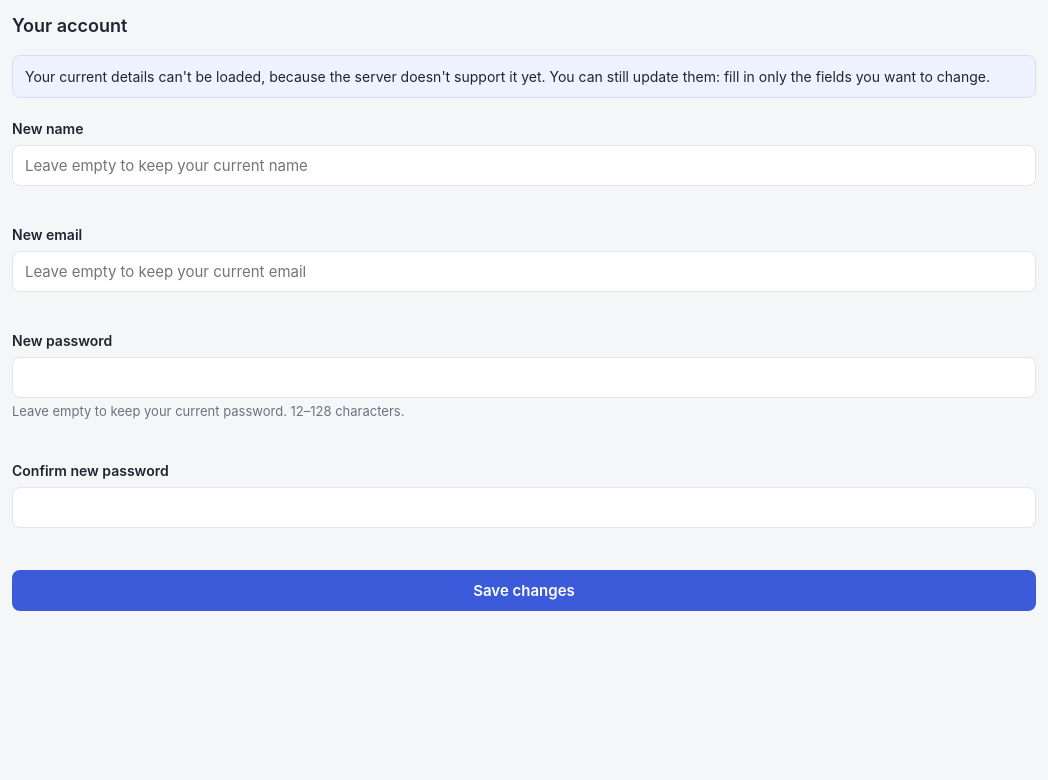
Test: Profile details (QB-47) › explains when the backend has no /users/me and sends only entered fields
expect the text "the server doesn't support it yet" is shown: met, box 25,68 -> 990,85
expect the field labelled "New name" is empty: met, box 12,145 -> 1036,186
Click the button "Save changes": click(524, 590) 12,570 -> 1036,610
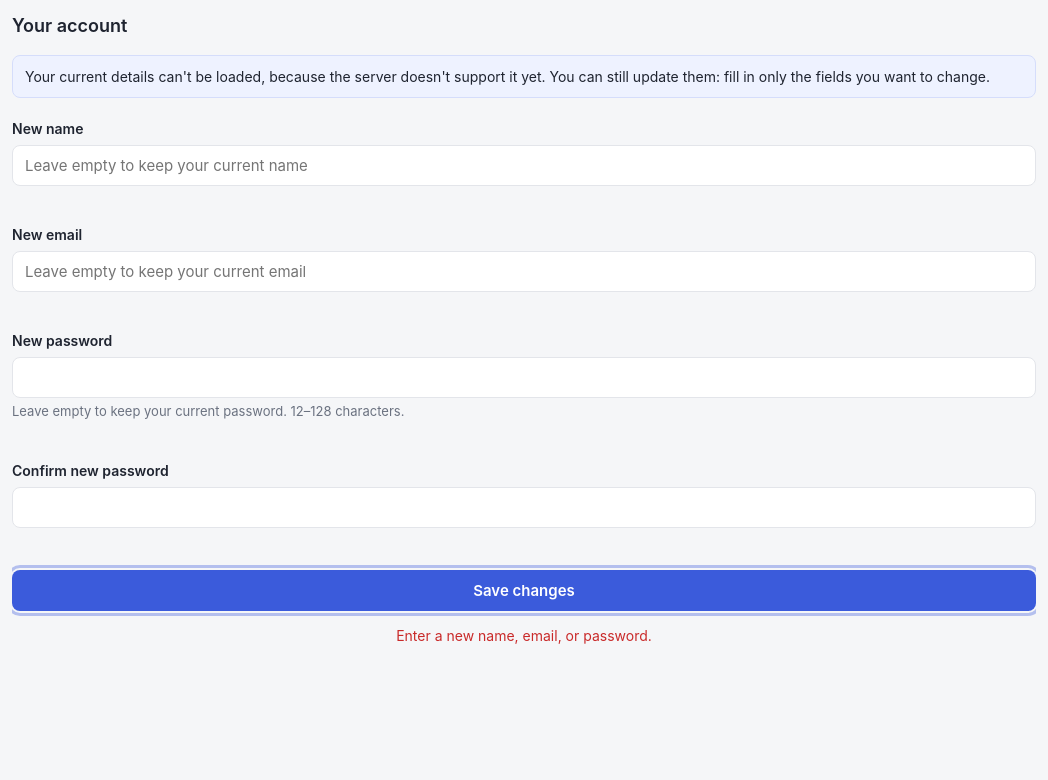
expect the message reads "Enter a new name, email, or password.": met, box 396,626 -> 652,644
In the field labelled "New name": (524, 166) 12,145 -> 1036,186, type "Ada L."
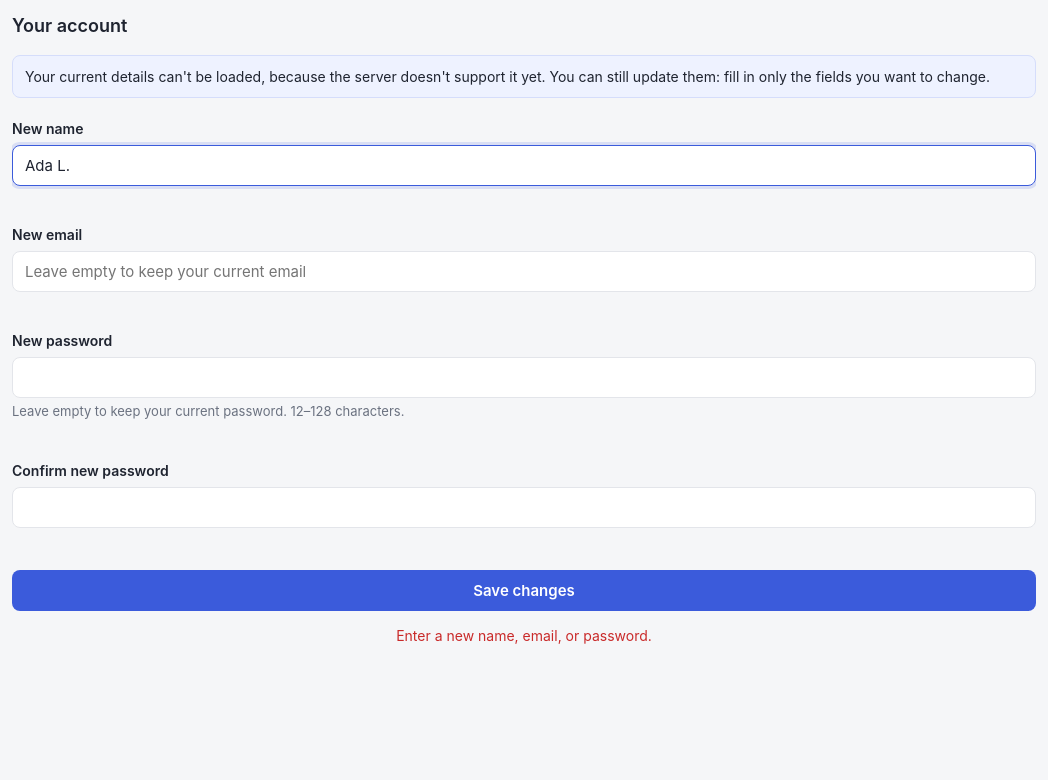
Click the button "Save changes": click(524, 590) 12,570 -> 1036,610
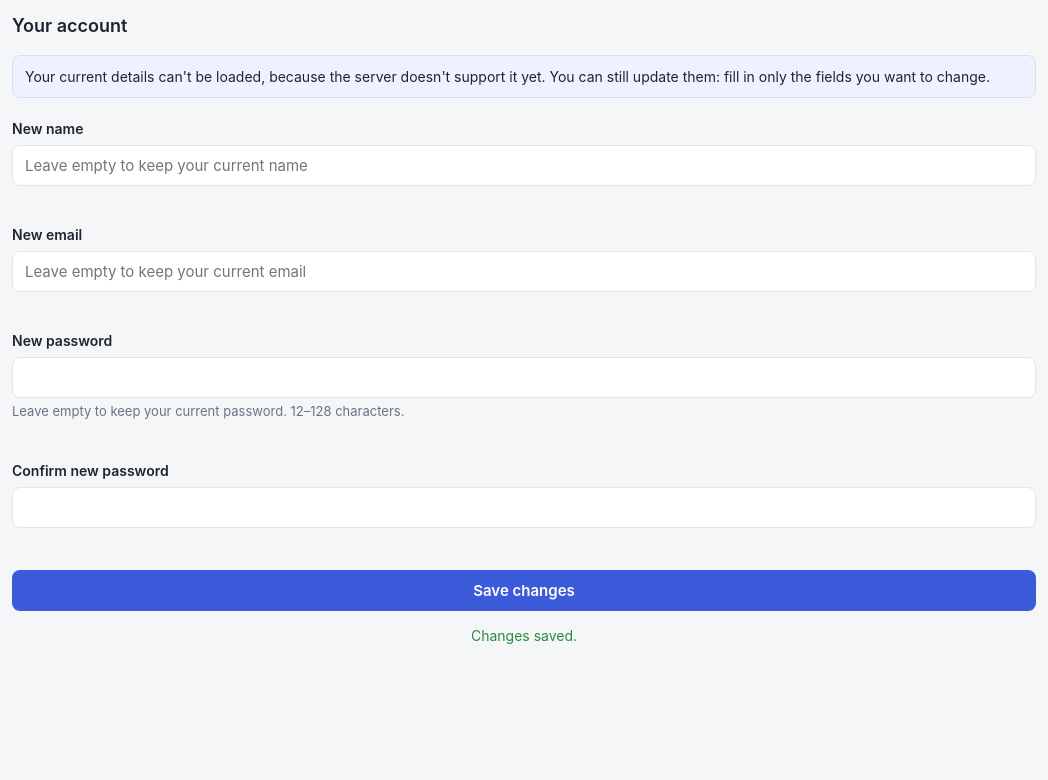
expect the text "Changes saved." is shown: met, box 471,626 -> 577,644
